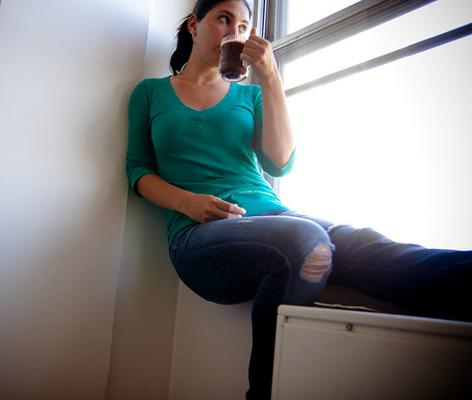person: (125, 1, 472, 400)
